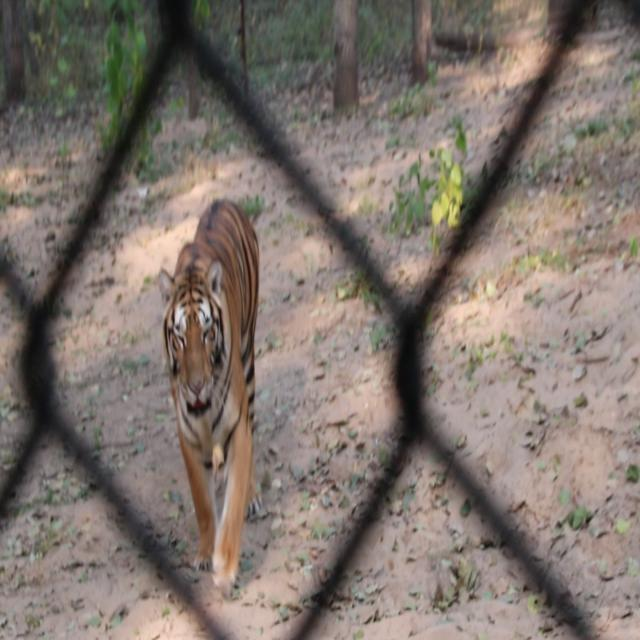Tiger: (141, 195, 306, 594)
